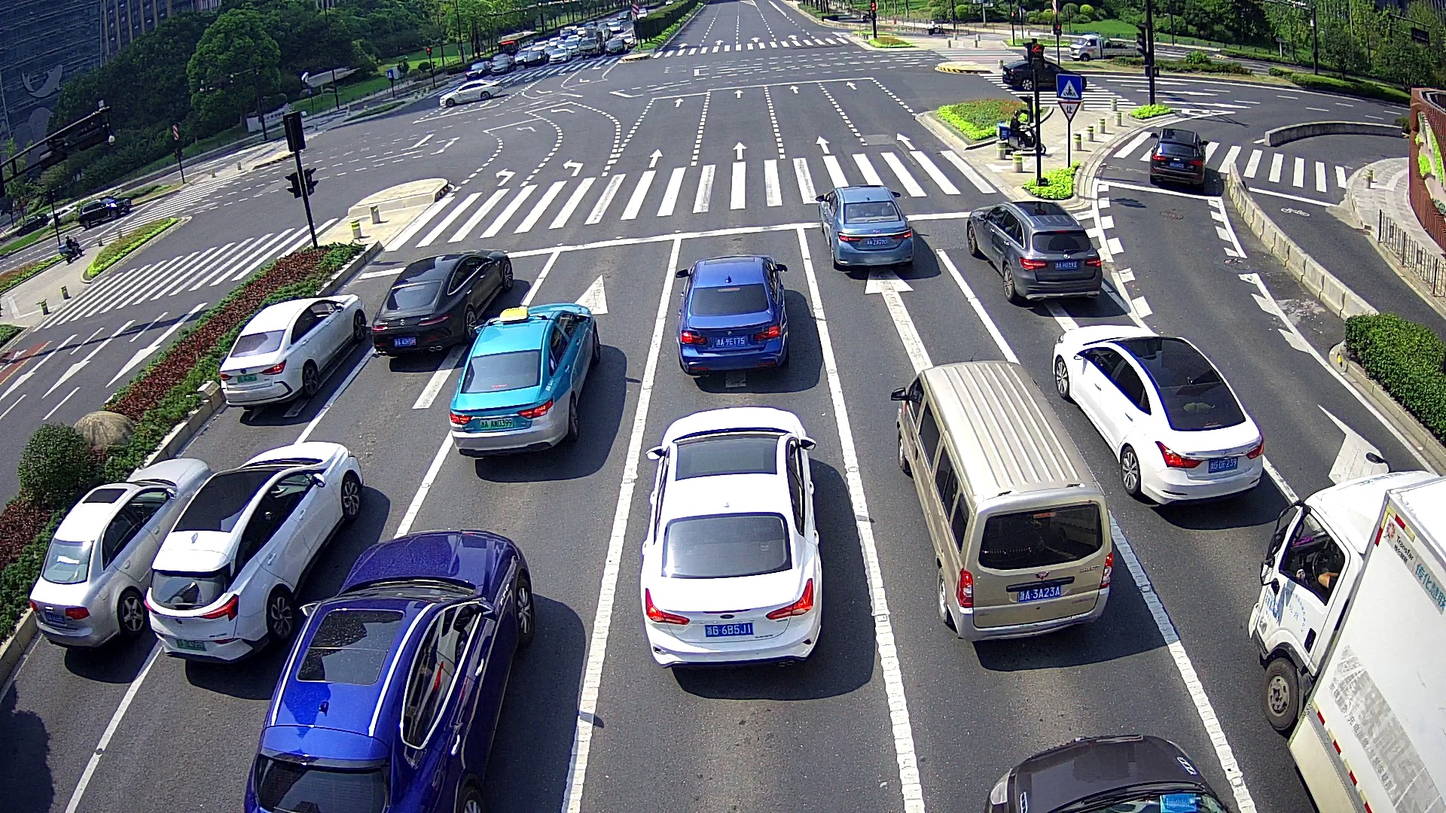vehicle: (236, 524, 535, 800), (1240, 462, 1445, 805), (885, 354, 1113, 647), (633, 404, 828, 678), (142, 439, 368, 665), (1043, 320, 1266, 509), (28, 448, 219, 647), (441, 298, 602, 457), (215, 287, 364, 410), (369, 240, 520, 355), (965, 196, 1106, 306), (670, 253, 793, 379), (813, 181, 916, 276), (1143, 122, 1210, 186), (438, 76, 507, 109), (70, 197, 134, 224), (990, 123, 1041, 152)
